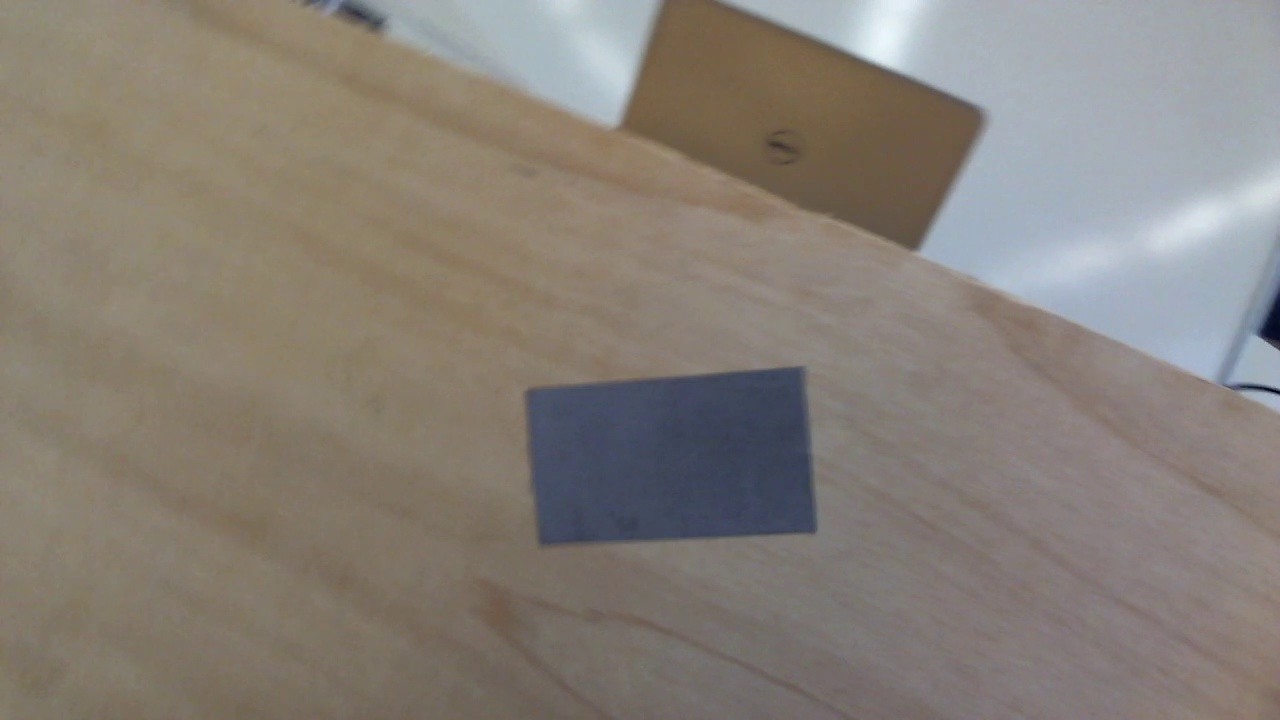Tape: (526, 365, 819, 547)
